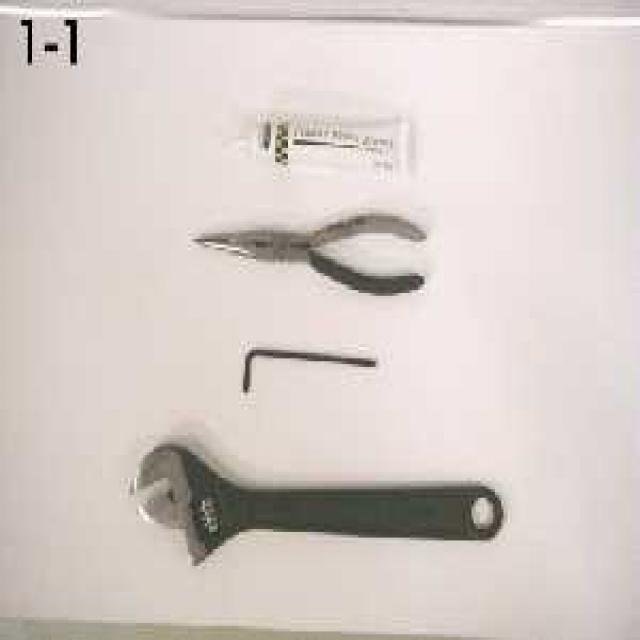pliers: (188, 198, 432, 302)
wrench: (122, 440, 506, 576)
